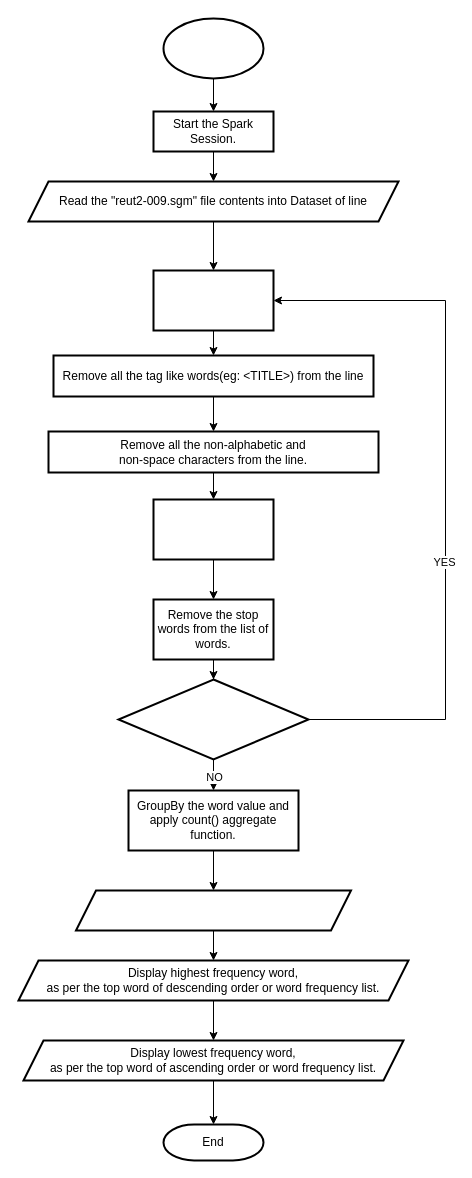
This 472x1178 diagram has some shape labels left out. The shapes that lost their labels are listed below. From the top down, each one's box as (x1, y1, x2, y2) in pixels, then its label:
(162, 17, 264, 79): Start
(152, 269, 274, 331): Make the line characters uppercase.
(152, 498, 274, 560): Split the line into words, using the space as seperator.
(117, 678, 309, 760): any lines left in dataset to pre-process?
(74, 889, 352, 931): Display All words with their frequency.
